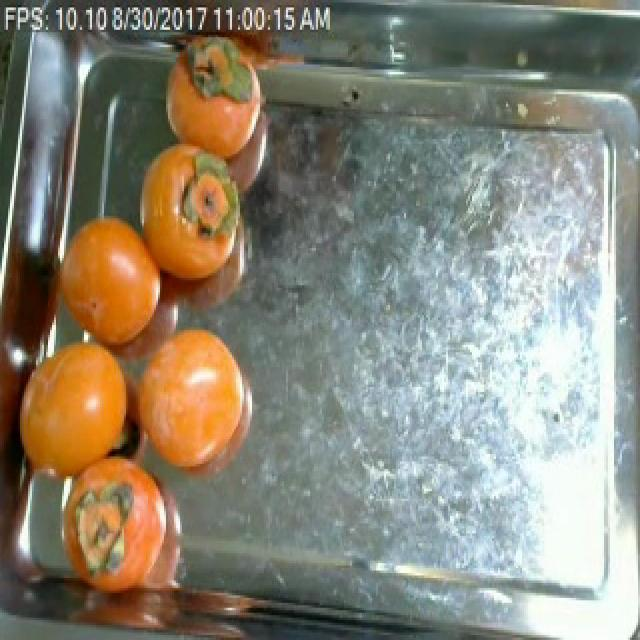Fruit: (114, 303, 264, 496), (14, 322, 144, 503), (52, 198, 174, 370)
